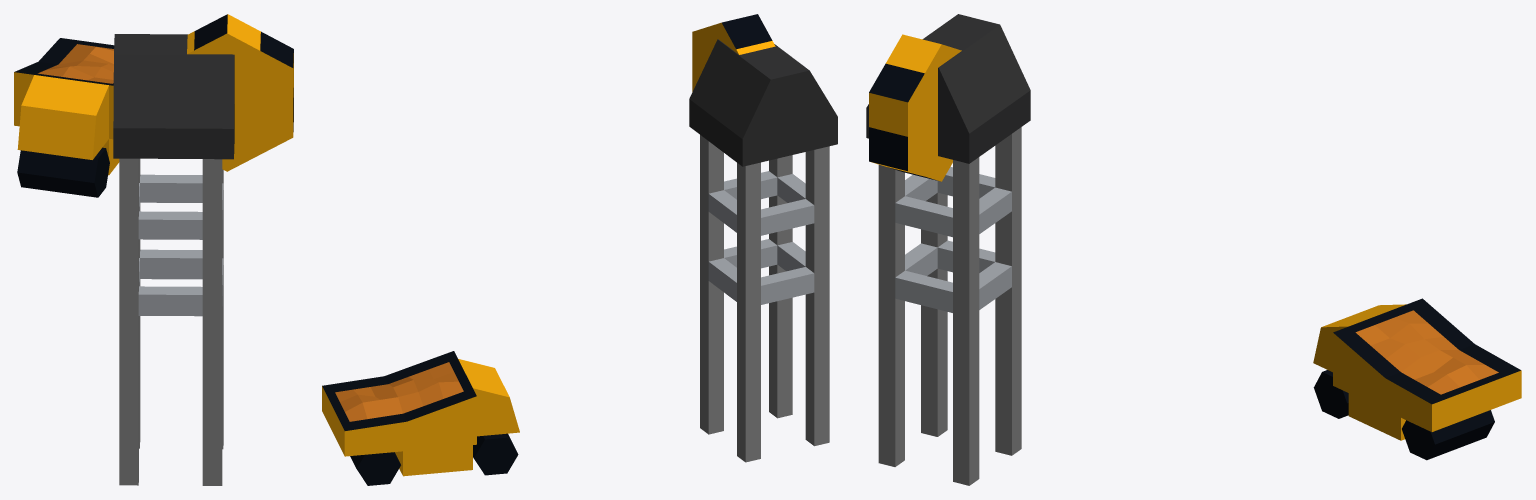
File: Border_5_exploring.fbx
3 renders of one model, left to right at view 1: azimuth 30°, elevation 25°; view 2: azimuth 150°, elevation 25°; view 3: azimuth 270°, elevation 25°, orthographic. The views are drawn at different scales.
Parts seen in each view (by area): view 1: Cube.010, Cube.011, Cylinder.005; view 2: Cube.010, Cube.011, Cylinder.005; view 3: Cube.010, Cube.011, Cylinder.005.
Part boxes in pixels (bbox=[...]): Cube.010: bbox=[113, 34, 234, 485]; Cube.011: bbox=[14, 38, 119, 197]; Cylinder.005: bbox=[187, 14, 293, 171]; Cube.010: bbox=[689, 39, 837, 462]; Cube.011: bbox=[322, 351, 519, 485]; Cylinder.005: bbox=[692, 14, 775, 91]; Cube.010: bbox=[866, 14, 1030, 485]; Cube.011: bbox=[1313, 298, 1521, 460]; Cylinder.005: bbox=[869, 34, 961, 181].
Size of the model in its own units: 118 by 158 by 214.
